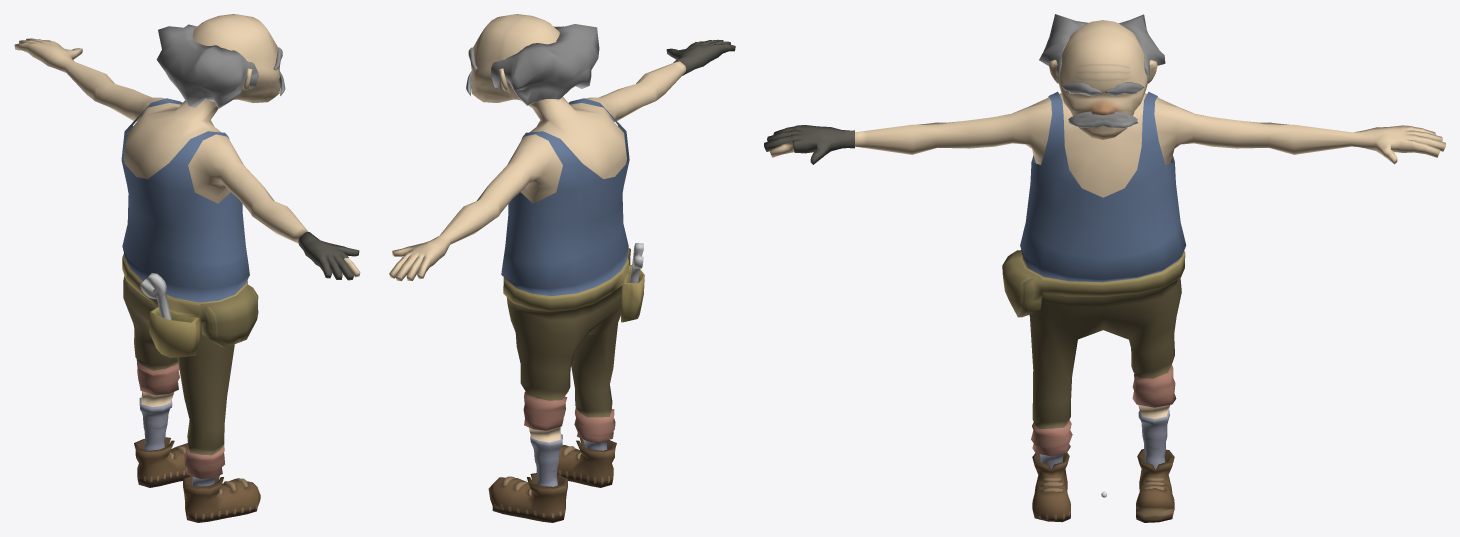
File: Viejito.fbx
The picture shows the model from 3 angles, left to right: view 1: azimuth 30°, elevation 25°; view 2: azimuth 150°, elevation 25°; view 3: azimuth 270°, elevation 25°; orthographic projection. The views are drawn at different scales.
Visible parts, largest first — view 1: Object_40, Object_38, Object_41, Object_37, Object_39, Object_42; view 2: Object_40, Object_38, Object_41, Object_37, Object_39, Object_42; view 3: Object_40, Object_38, Object_39, Object_37, Object_41.
Boxes of the visible parts, box(x1,y1,x2,y2) form: Object_40: box(14, 38, 360, 302); Object_38: box(122, 254, 258, 486); Object_41: box(156, 24, 285, 108); Object_37: box(134, 437, 260, 522); Object_39: box(173, 14, 280, 120); Object_42: box(140, 273, 171, 319); Object_40: box(389, 39, 735, 296); Object_38: box(503, 248, 644, 486); Object_41: box(466, 24, 599, 105); Object_37: box(488, 438, 616, 522); Object_39: box(471, 14, 577, 120); Object_42: box(629, 243, 643, 283); Object_40: box(764, 91, 1445, 282); Object_38: box(1002, 250, 1185, 469); Object_39: box(1048, 20, 1157, 139); Object_37: box(1032, 449, 1174, 522); Object_41: box(1039, 14, 1165, 128).
Bounding box in the file's own units: 6141 × 17749 × 22235.
